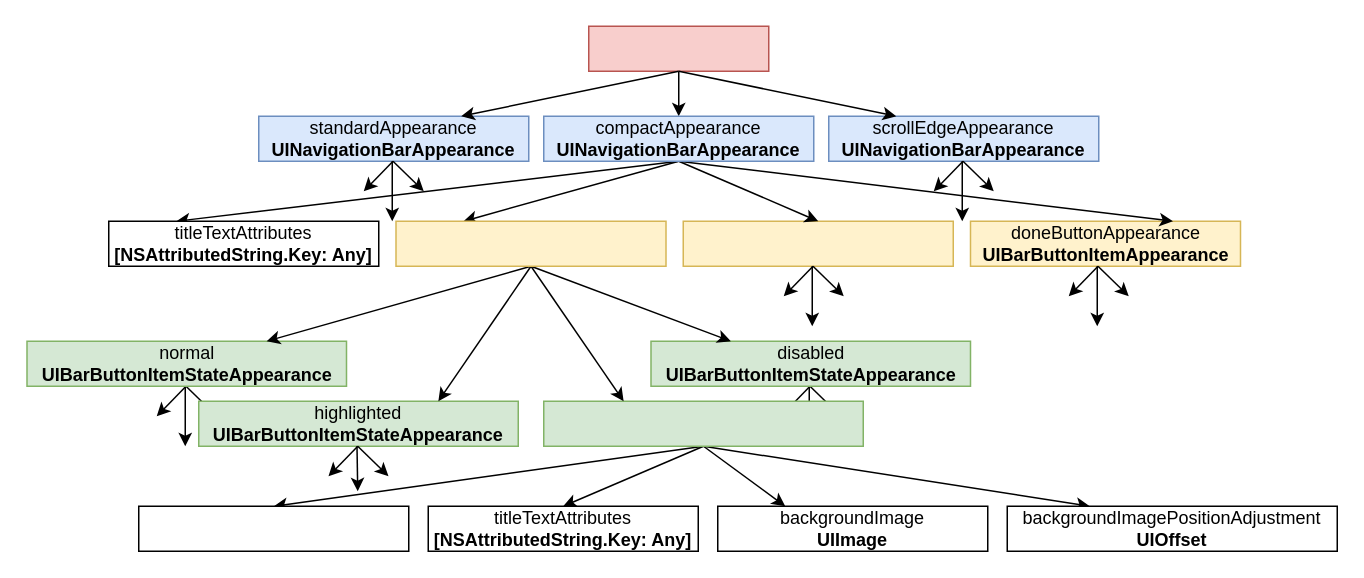
This 1364x578 diagram has some shape labels left out. Here are the shapes that lost their labels. From the top down, the centre of each, then its label:
the point at 678,48: Navigation Bar
the point at 530,243: buttonAppearance UIBarButtonItemAppearance
the point at 817,243: backButtonAppearance UIBarButtonItemAppearance
the point at 702,423: focused UIBarButtonItemStateAppearance
the point at 273,528: titlePositionAdjustment UIOffset
